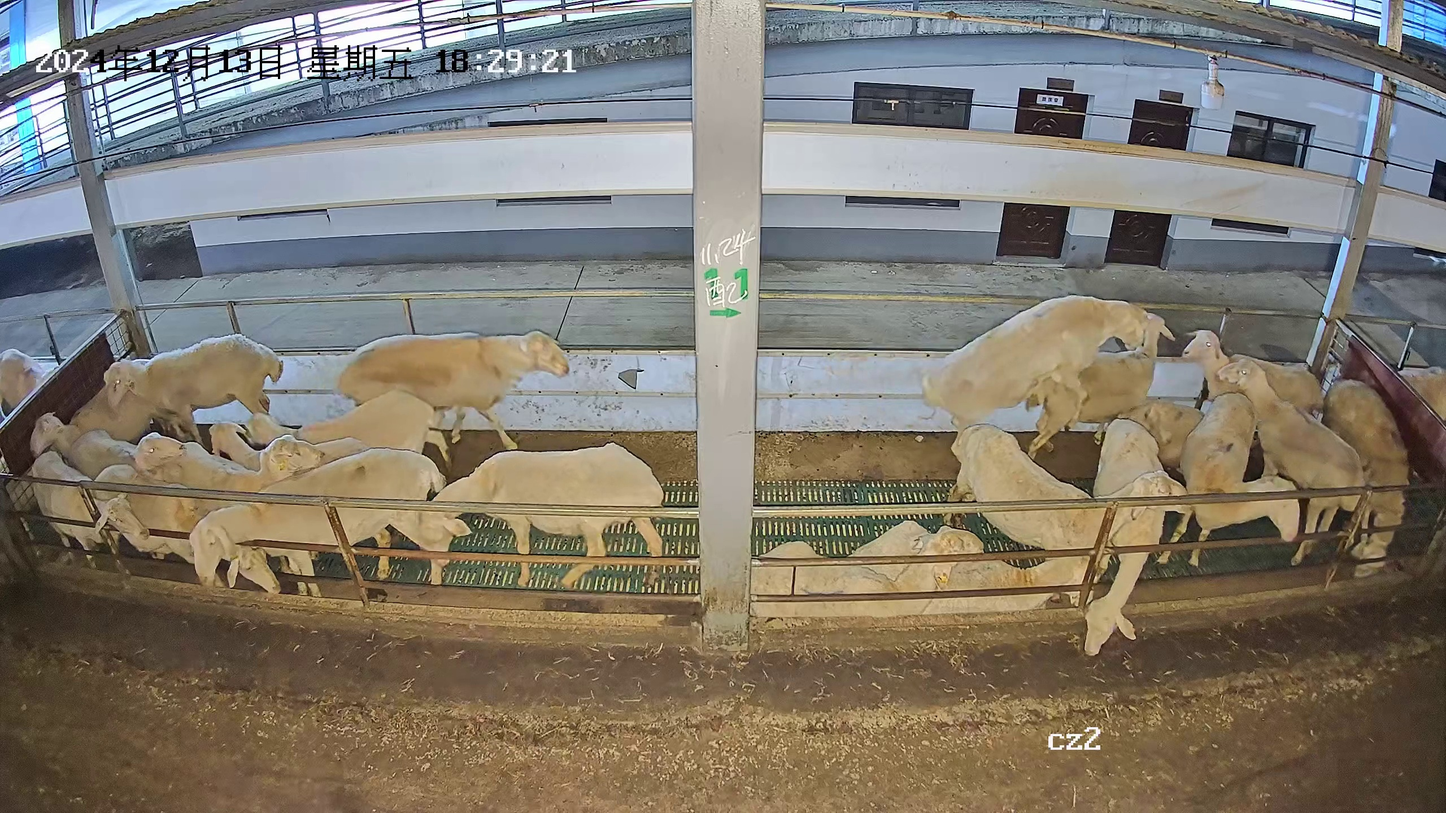Smounting: (921, 291, 1181, 464)
mounted: (1018, 309, 1178, 460)
